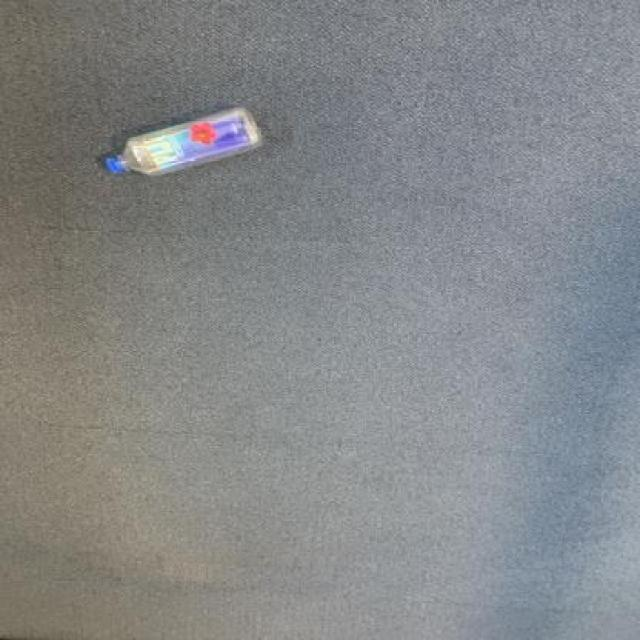trash: (99, 107, 268, 182)
